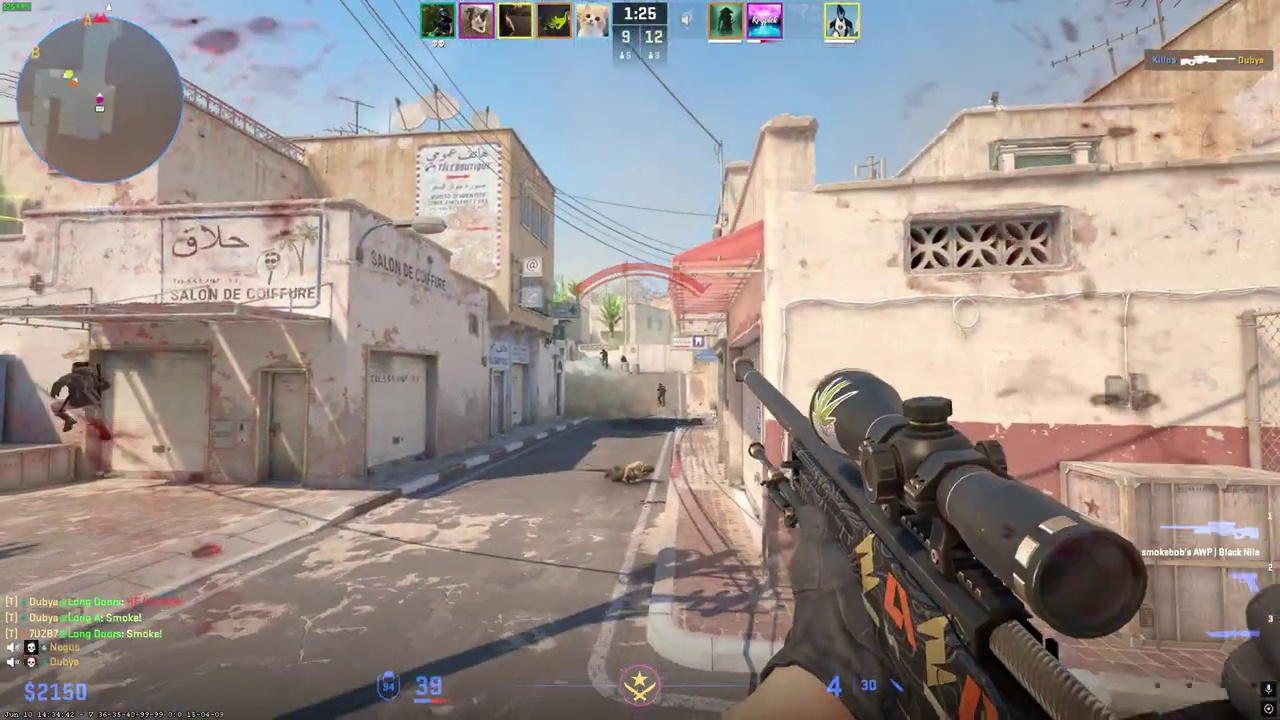CT: (657, 383, 666, 406), (600, 350, 607, 368), (621, 356, 627, 362)
Terrorist: (53, 361, 110, 441)
